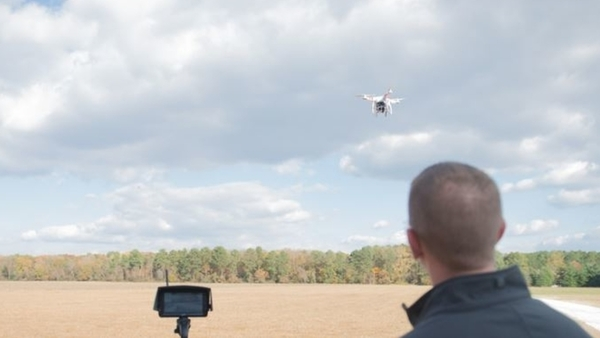drone: (352, 84, 407, 121)
